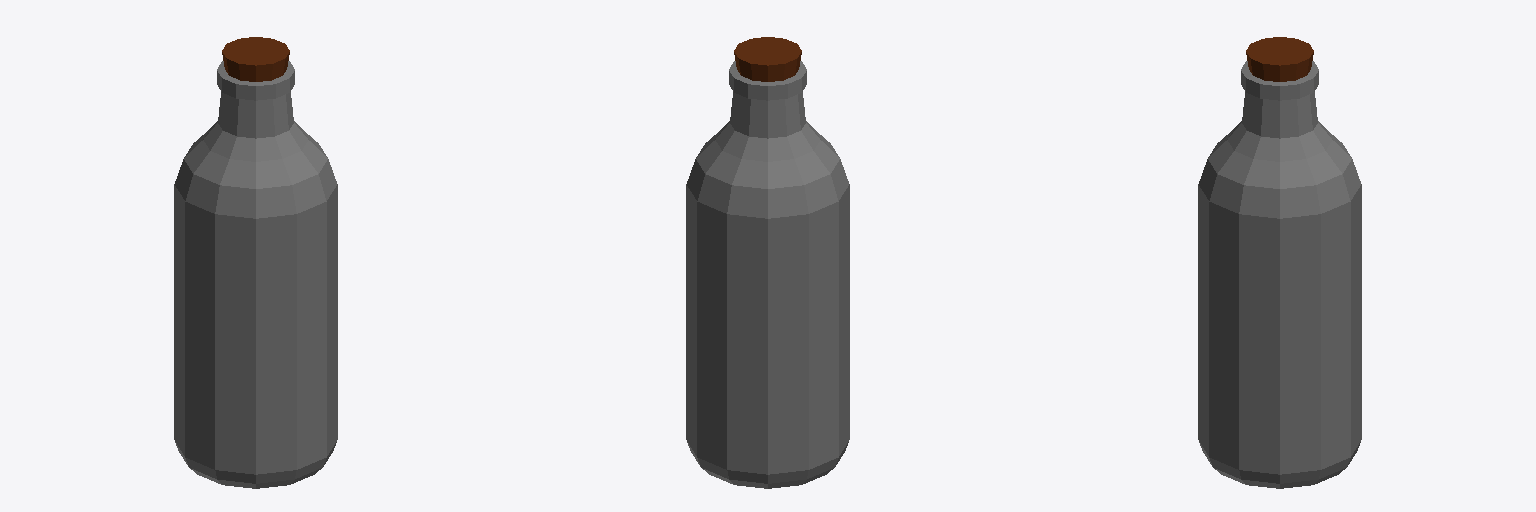
Rendered from bottle3.obj.
The picture shows the model from 3 angles: view 1: azimuth 30°, elevation 25°; view 2: azimuth 150°, elevation 25°; view 3: azimuth 270°, elevation 25°; orthographic projection.
Parts seen in each view (by area): view 1: jugOfMilk; view 2: jugOfMilk; view 3: jugOfMilk.
Boxes of the visible parts, <box> form: jugOfMilk: <box>174,37,337,488</box>; jugOfMilk: <box>686,37,849,488</box>; jugOfMilk: <box>1198,37,1361,488</box>.
Bounding box in the file's own units: 2.06 × 5.71 × 2.06.